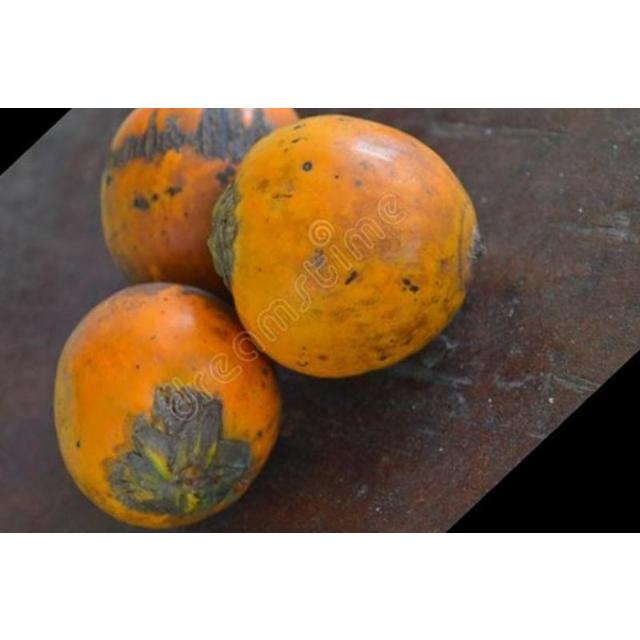good: (208, 114, 480, 380), (53, 281, 284, 531), (101, 107, 298, 301)
